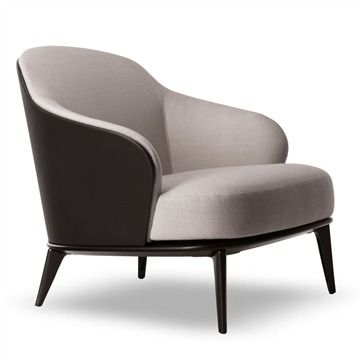chairs: (10, 43, 342, 336)
